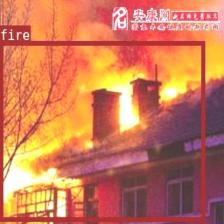fire: (0, 40, 204, 220)
